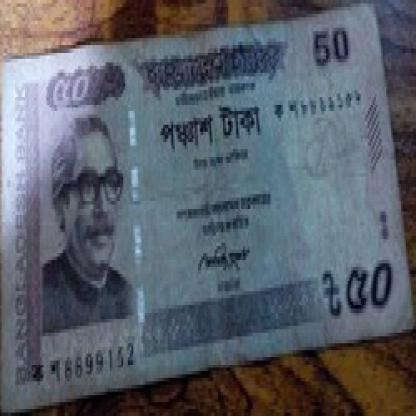Fifty taka: (50, 66, 111, 125), (341, 260, 393, 319)
